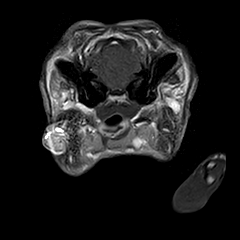Brain: (66, 14, 165, 112)
